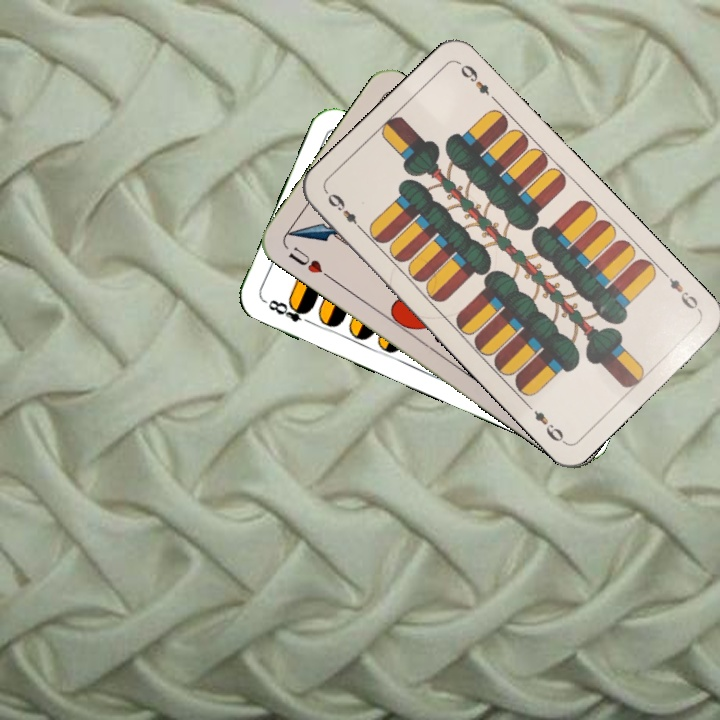E8: (260, 295, 316, 327)
E9: (322, 188, 367, 235), (658, 267, 703, 314)
HU: (284, 242, 334, 282)
